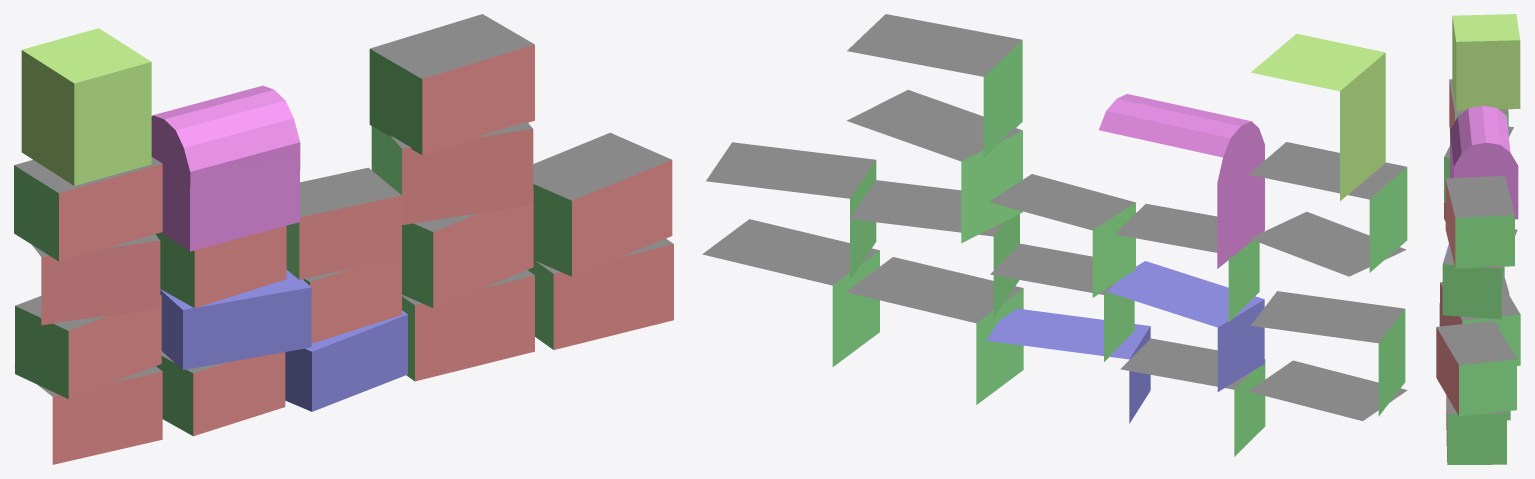
Rendered from interior_Aa_s__boxgroup2.gltf.
3 renders of one model, left to right at view 1: azimuth 30°, elevation 25°; view 2: azimuth 150°, elevation 25°; view 3: azimuth 270°, elevation 25°, orthographic. The views are drawn at different scales.
Visible parts, largest first — view 1: boxgroup2; view 2: boxgroup2; view 3: boxgroup2.
Boxes of the visible parts, x1,y1,x2,y2 form: boxgroup2: [14, 14, 673, 464]; boxgroup2: [702, 14, 1407, 456]; boxgroup2: [1436, 14, 1520, 464].
Size of the model in its own units: 1.56 by 0.8983 by 0.2696.
